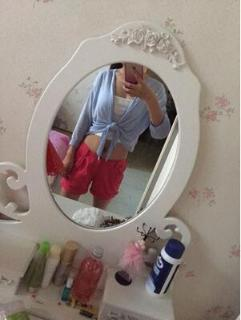long sleeve outwear: (69, 69, 170, 161)
shorts: (60, 140, 127, 201)
